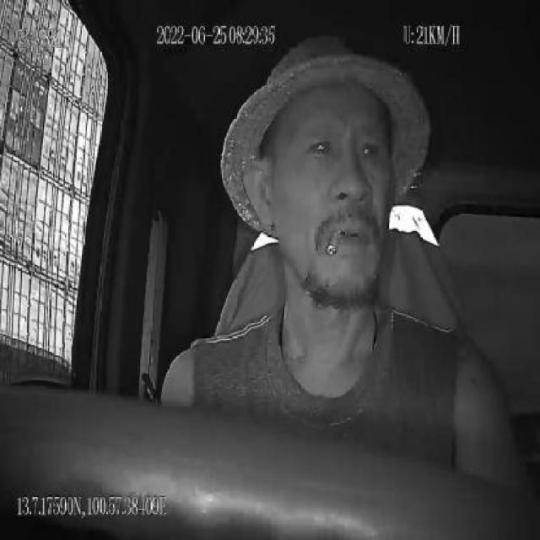smoking: (326, 226, 341, 256)
